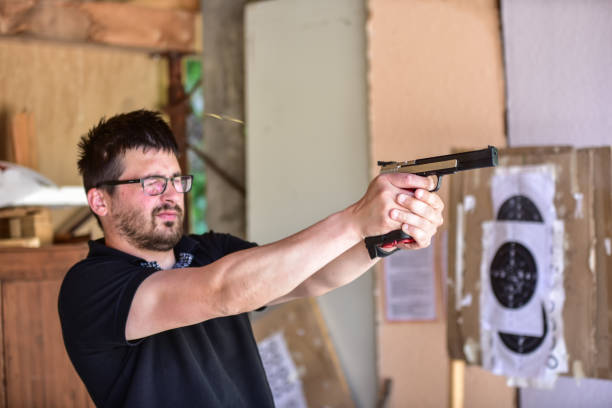gun: (363, 145, 500, 259)
